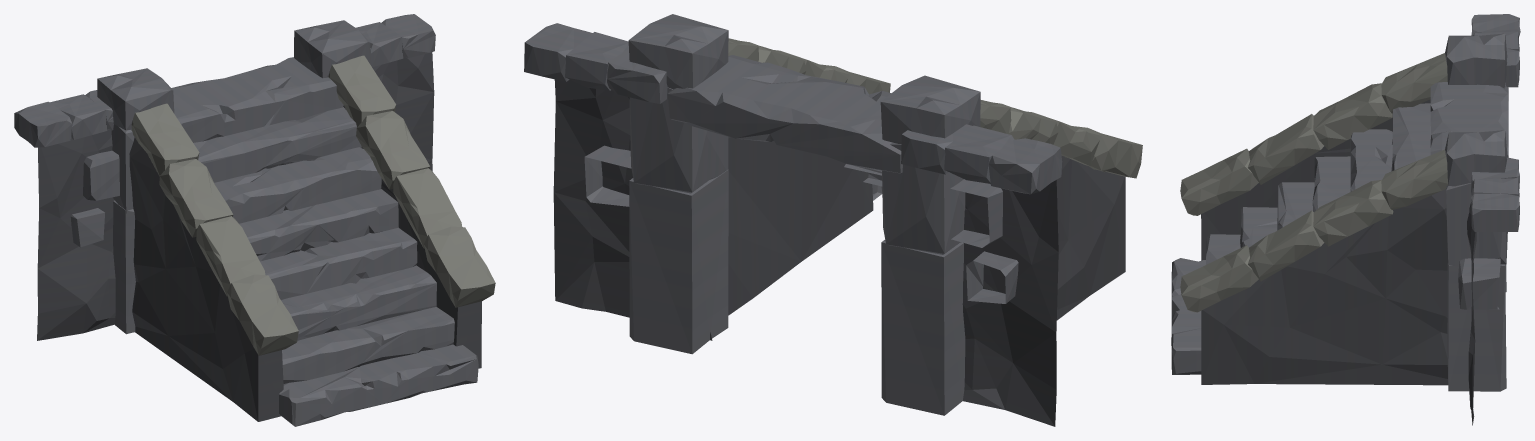
The model's file is Wall_Stairs.fbx.
3 views of the same model, side by side, from view 1: azimuth 30°, elevation 25°; view 2: azimuth 150°, elevation 25°; view 3: azimuth 270°, elevation 25° (orthographic). The views are drawn at different scales.
Parts seen in each view (by area): view 1: polySurface10212; view 2: polySurface10212; view 3: polySurface10212.
Part boxes in pixels (left/top/right/bottom): polySurface10212: left=14, top=14, right=495, bottom=426; polySurface10212: left=524, top=14, right=1142, bottom=426; polySurface10212: left=1171, top=14, right=1520, bottom=425.
Size of the model in its own units: 813 by 466 by 611.
